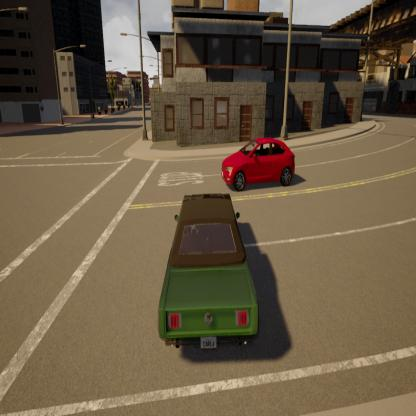Cars: (156, 186, 262, 357), (206, 118, 309, 209)
